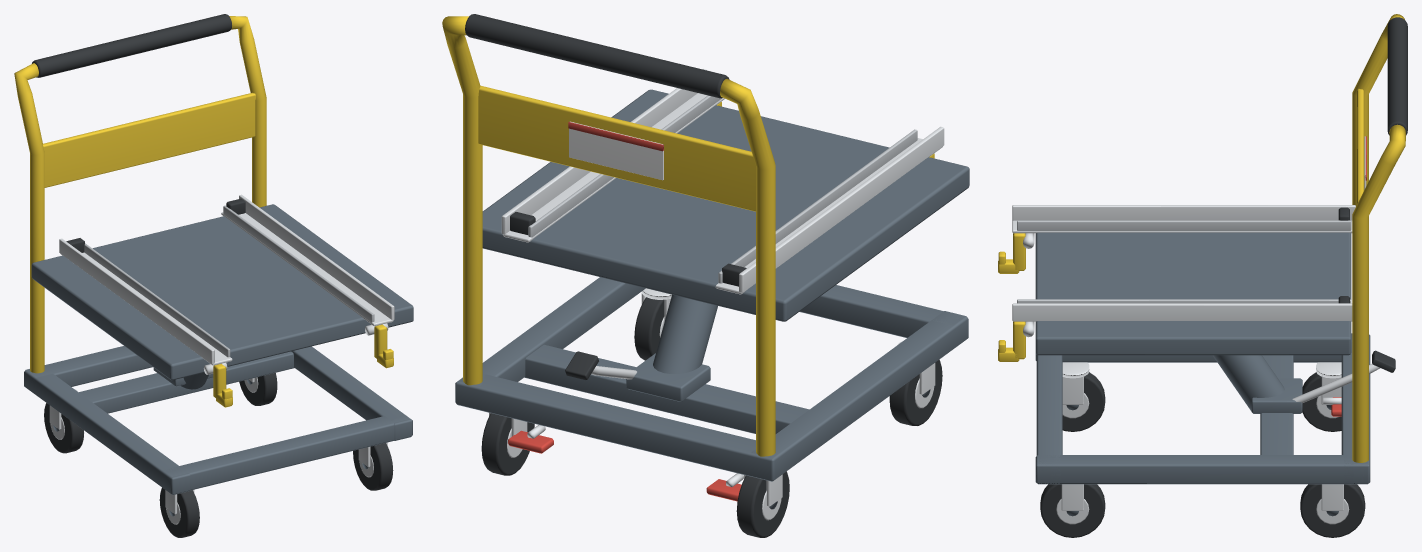
The model's file is vcb-trolley.glb.
The picture shows the model from 3 angles, left to right: view 1: azimuth 30°, elevation 25°; view 2: azimuth 150°, elevation 25°; view 3: azimuth 270°, elevation 25°; orthographic projection. The views are drawn at different scales.
Visible parts, largest first — view 1: VcbTrolleyFrame, TrolleyDeckPlate, TrolleyWheelMesh_0, TrolleyWheelMesh_1, TrolleyWheelMesh_2, TrolleyWheelMesh_3, TrolleyLatchHookMesh_L, TrolleyLatchHookMesh_R; view 2: VcbTrolleyFrame, TrolleyDeckPlate, TrolleyWheelMesh_2, TrolleyWheelMesh_3, TrolleyWheelMesh_0, TrolleyWheelMesh_1, TrolleyBrakePedals; view 3: TrolleyDeckPlate, VcbTrolleyFrame, TrolleyWheelMesh_3, TrolleyWheelMesh_1, TrolleyWheelMesh_0, TrolleyWheelMesh_2, TrolleyLatchHookMesh_R, TrolleyLatchHookMesh_L.
Part boxes in pixels (x1=…): VcbTrolleyFrame: x1=14, y1=14, x2=412, y2=514; TrolleyDeckPlate: x1=31, y1=194, x2=413, y2=380; TrolleyWheelMesh_0: x1=159, y1=487, x2=199, y2=537; TrolleyWheelMesh_1: x1=353, y1=443, x2=393, y2=490; TrolleyWheelMesh_2: x1=44, y1=403, x2=83, y2=453; TrolleyWheelMesh_3: x1=239, y1=373, x2=277, y2=405; TrolleyLatchHookMesh_L: x1=203, y1=362, x2=232, y2=407; TrolleyLatchHookMesh_R: x1=365, y1=323, x2=393, y2=368; VcbTrolleyFrame: x1=442, y1=14, x2=968, y2=506; TrolleyDeckPlate: x1=482, y1=69, x2=969, y2=321; TrolleyWheelMesh_2: x1=736, y1=471, x2=789, y2=537; TrolleyWheelMesh_3: x1=481, y1=413, x2=534, y2=475; TrolleyWheelMesh_0: x1=889, y1=359, x2=942, y2=425; TrolleyWheelMesh_1: x1=634, y1=297, x2=664, y2=360; TrolleyBrakePedals: x1=508, y1=425, x2=743, y2=501; TrolleyDeckPlate: x1=1012, y1=205, x2=1355, y2=355; VcbTrolleyFrame: x1=1035, y1=14, x2=1407, y2=510; TrolleyWheelMesh_3: x1=1300, y1=484, x2=1365, y2=537; TrolleyWheelMesh_1: x1=1040, y1=484, x2=1105, y2=537; TrolleyWheelMesh_0: x1=1062, y1=372, x2=1105, y2=431; TrolleyWheelMesh_2: x1=1302, y1=372, x2=1341, y2=431; TrolleyLatchHookMesh_R: x1=998, y1=321, x2=1034, y2=361; TrolleyLatchHookMesh_L: x1=998, y1=233, x2=1034, y2=273.
Bounding box in the file's own units: 0.68 × 0.9817 × 0.883.
